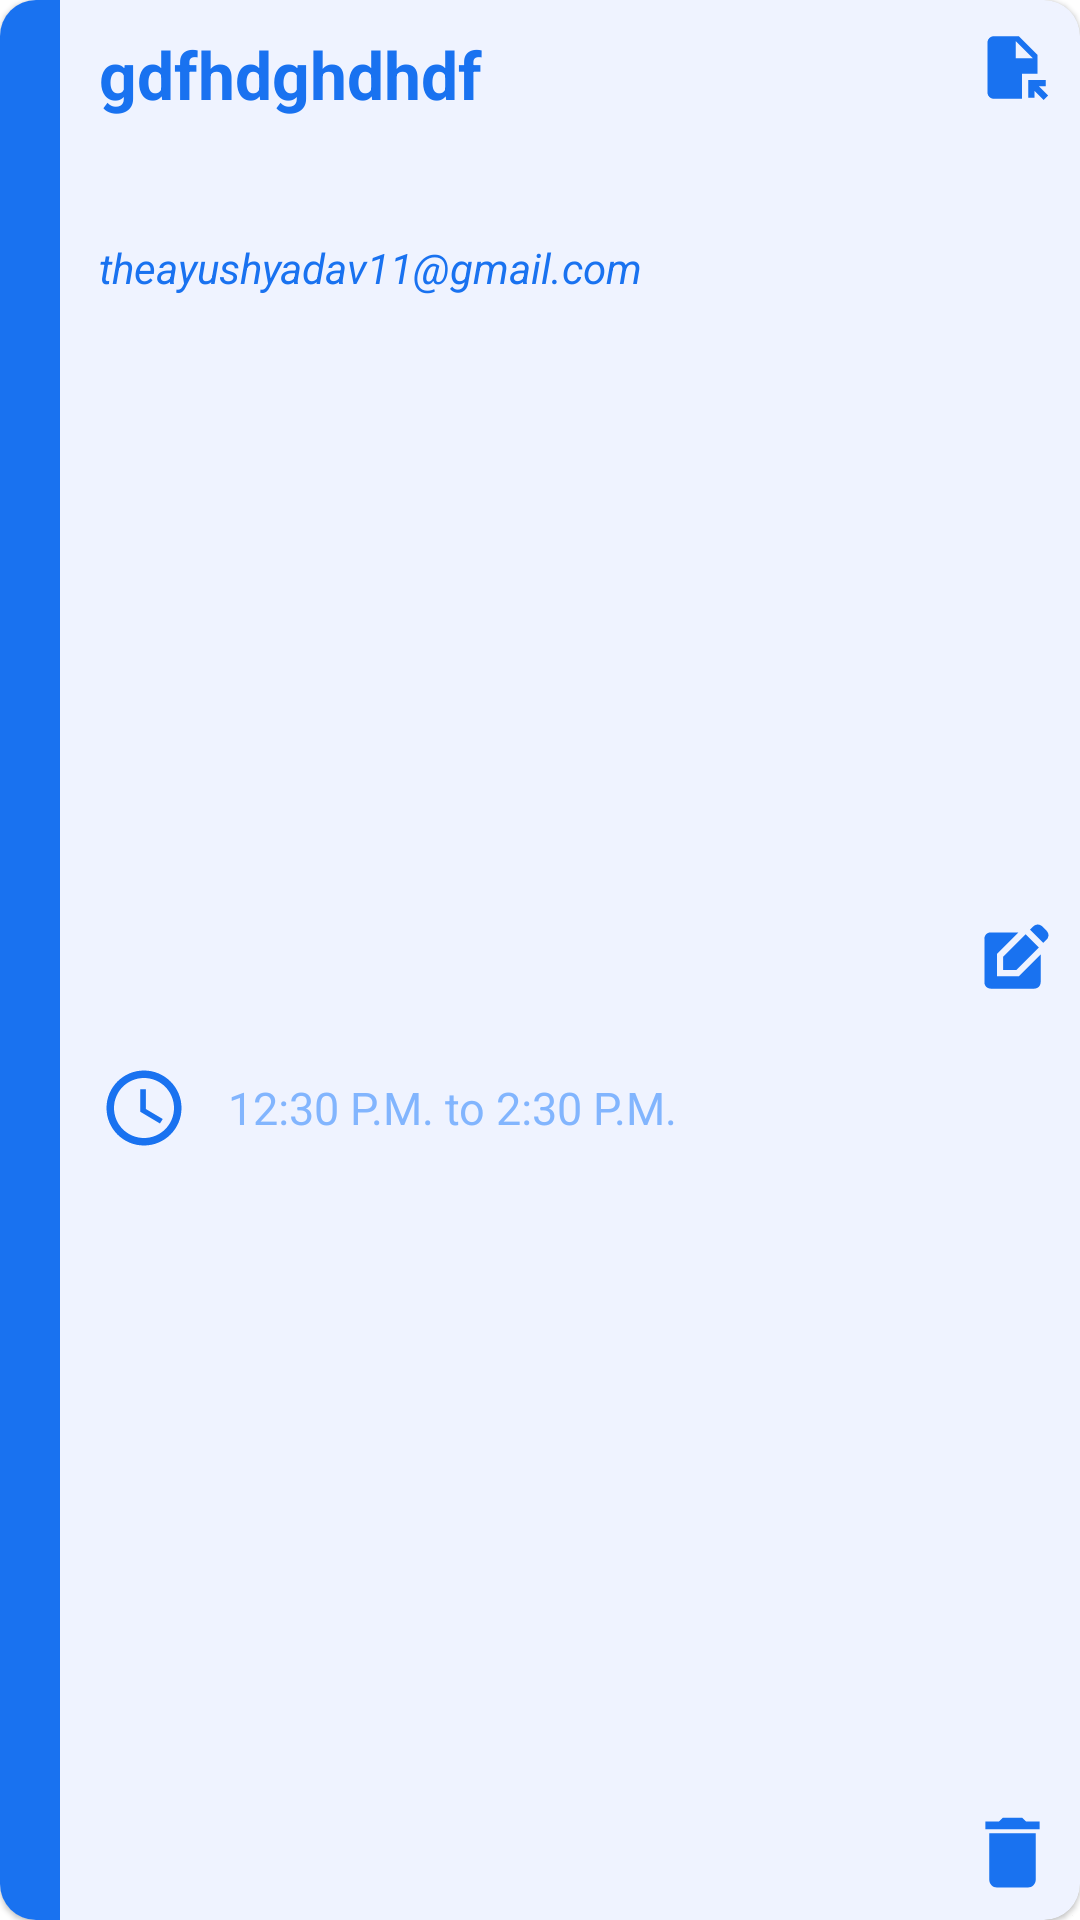

Screen size 1080*1920. Icon name, then its center in pixels as point (x, y):
access time: point (144, 1108)
delete 24menu: point (1032, 1868)
edit food: point (1016, 956)
file open: point (1033, 52)
